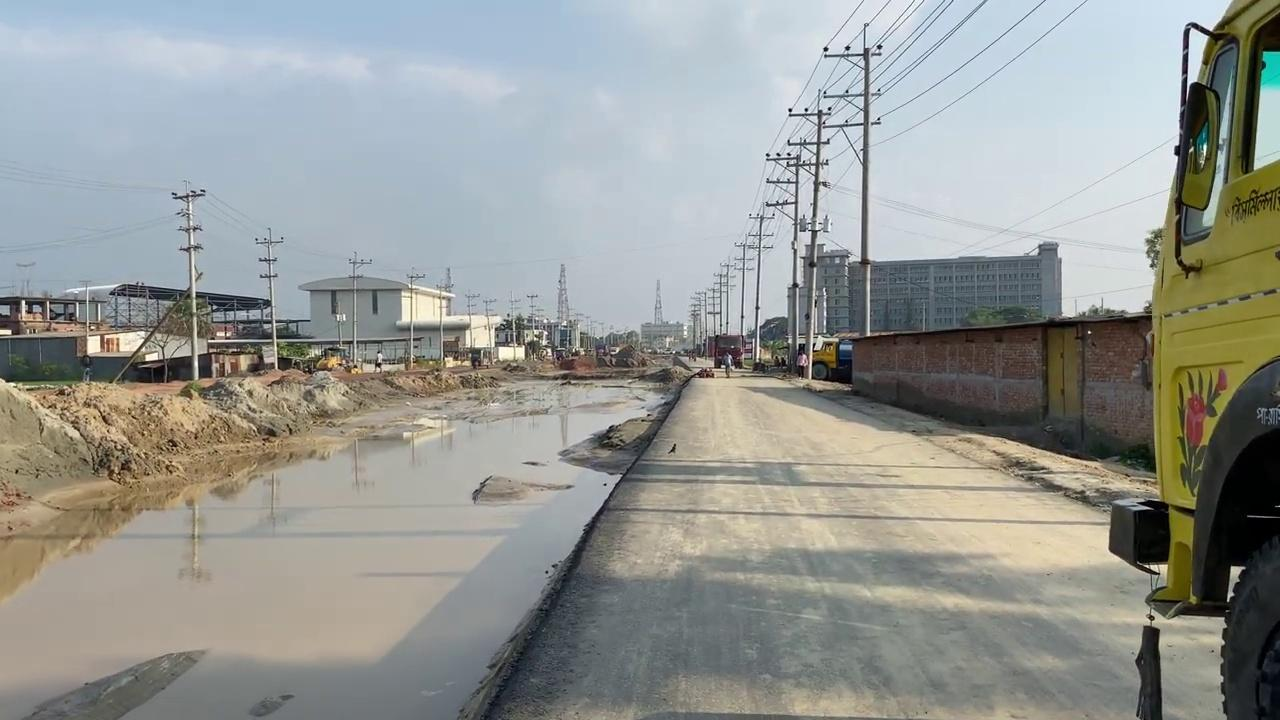Curb: (457, 363, 703, 717)
Obstacle: (1107, 496, 1170, 573)
Pole: (822, 23, 882, 335), (787, 89, 831, 378), (171, 181, 205, 380), (254, 227, 283, 369), (346, 250, 371, 366)
Rickshaw: (475, 361, 1225, 718)
Sidewalk: (1, 371, 685, 718)
Tree: (1107, 0, 1279, 719), (810, 332, 857, 382), (706, 334, 745, 368), (597, 343, 646, 368), (314, 346, 352, 371)
Upstairs: (849, 312, 1154, 458)
